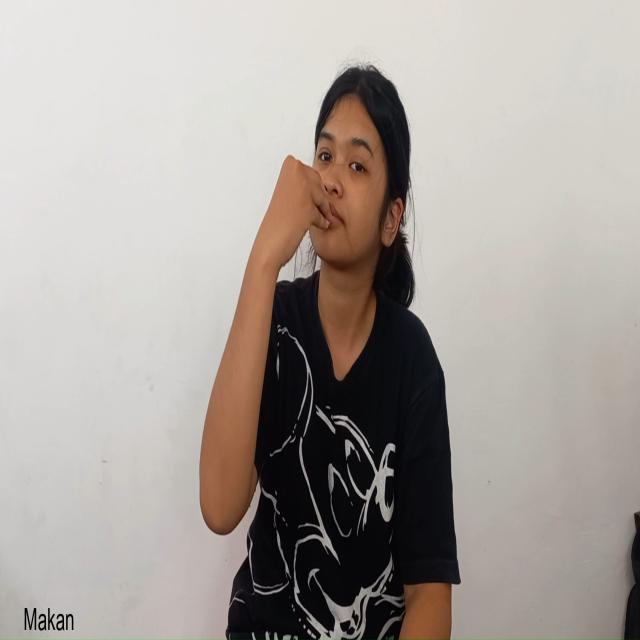Makan -BISINDO-: (239, 66, 406, 380)
